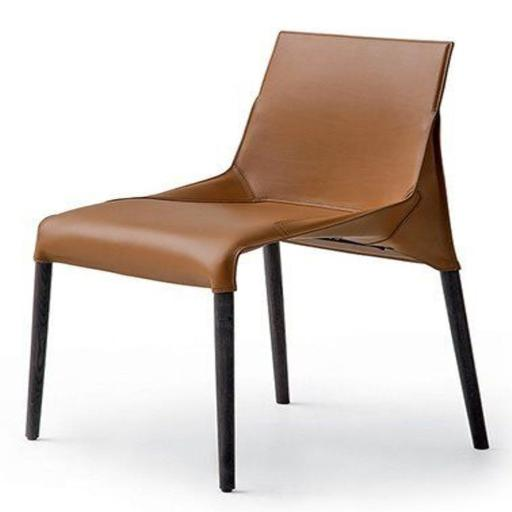chair: (18, 30, 491, 491)
